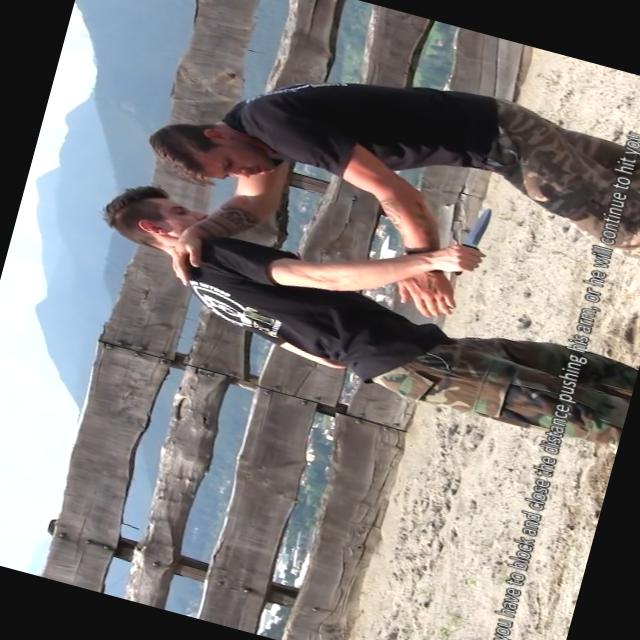knife: (440, 195, 503, 284)
